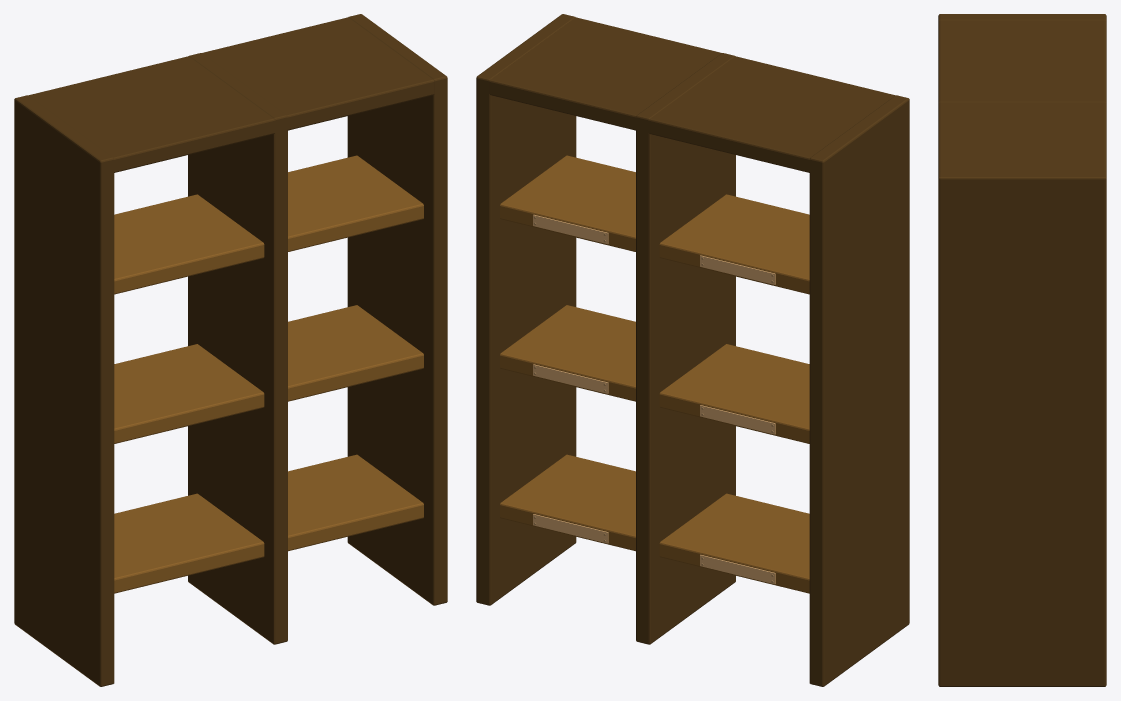
File: WareHouseShelf .fbx
3 views of the same model, side by side, from view 1: azimuth 30°, elevation 25°; view 2: azimuth 150°, elevation 25°; view 3: azimuth 270°, elevation 25° (orthographic). The views are drawn at different scales.
Parts seen in each view (by area): view 1: Cylinder.004; view 2: Cylinder.004; view 3: Cylinder.004.
Part boxes in pixels (<box>): Cylinder.004: <box>14,14,447,686</box>; Cylinder.004: <box>476,14,909,686</box>; Cylinder.004: <box>938,14,1106,686</box>.
Size of the model in its own units: 594 by 860 by 257.
